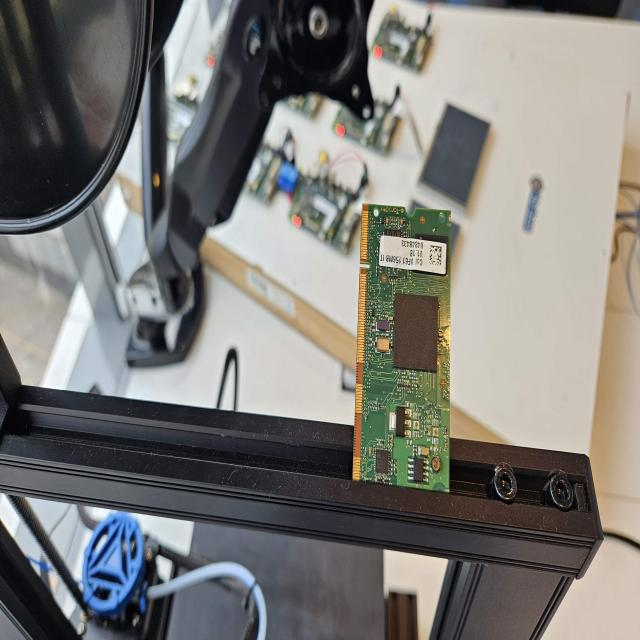som: (348, 201, 461, 498)
